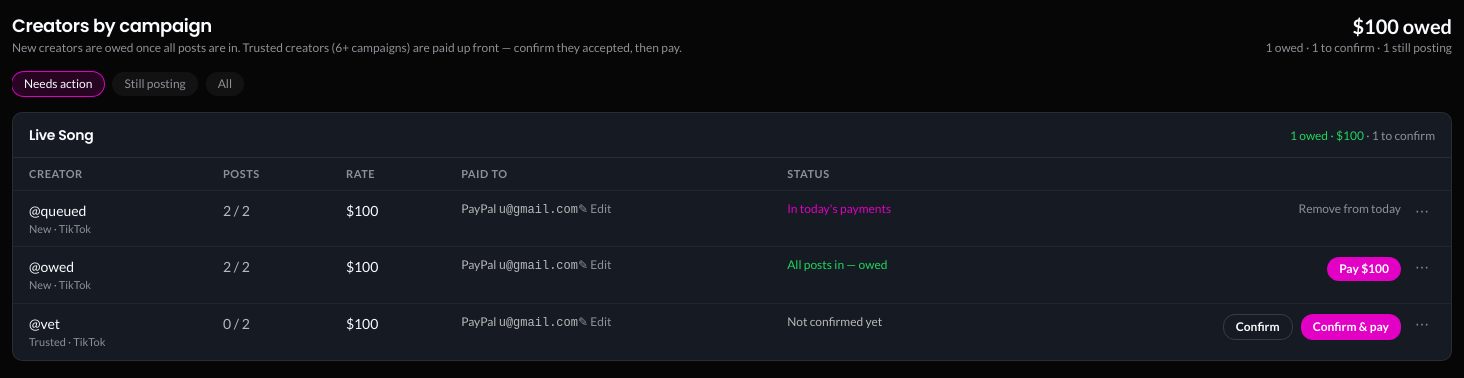
Test: CampaignPayouts › groups creators under their campaign with clear status
Expected: the heading "Live Song" is shown, [29,125,93,145]
Expected: the text "All posts in — owed" is shown, [771,247,1014,304]
Click the button "Still posting" at (155, 84), box [112,72,198,96]
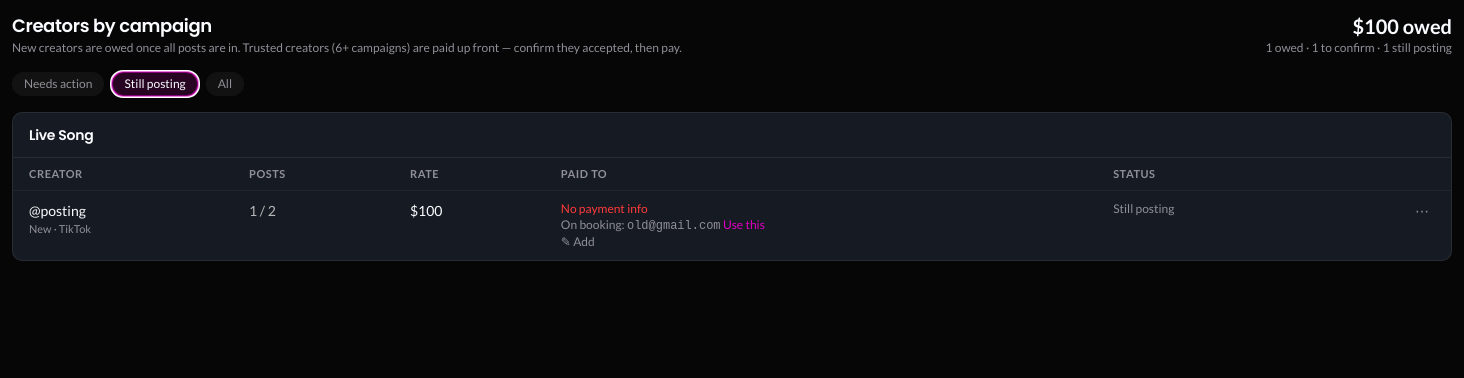
Result: the text "@posting" is shown at [29,202,86,219]
Result: the text "old@gmail.com" is shown at [627,219,720,233]
Result: the button "Use this" is shown at [723,217,765,233]
